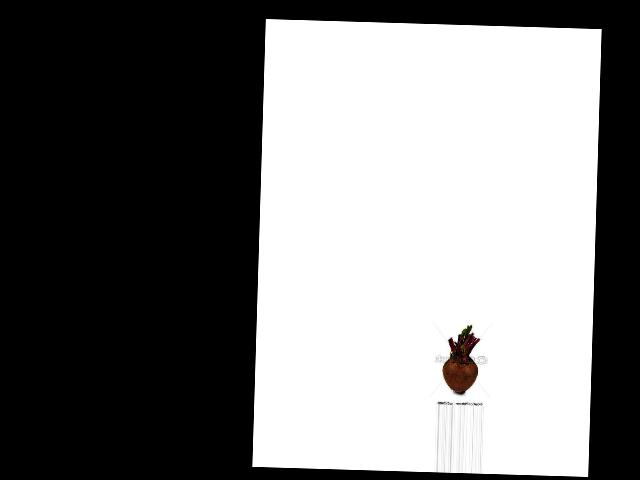beet: (441, 324, 480, 394)
